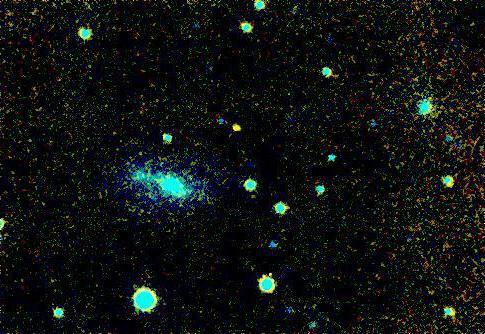star: (221, 112, 251, 142)
